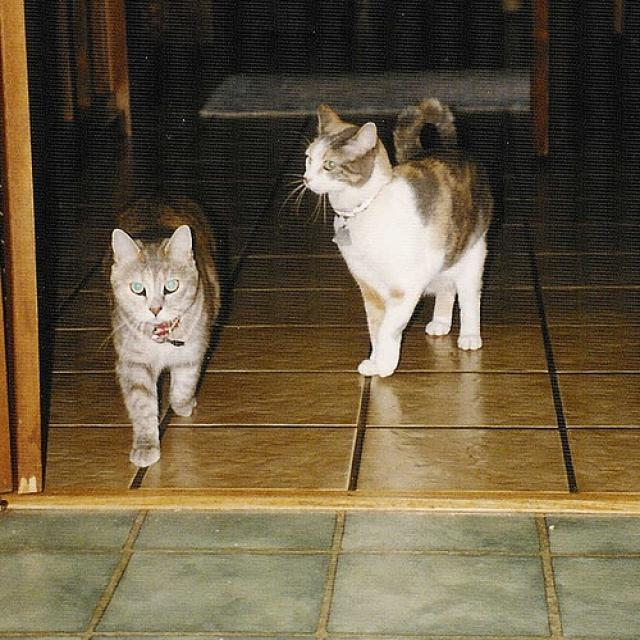cat: (284, 98, 497, 377), (109, 194, 221, 467)
